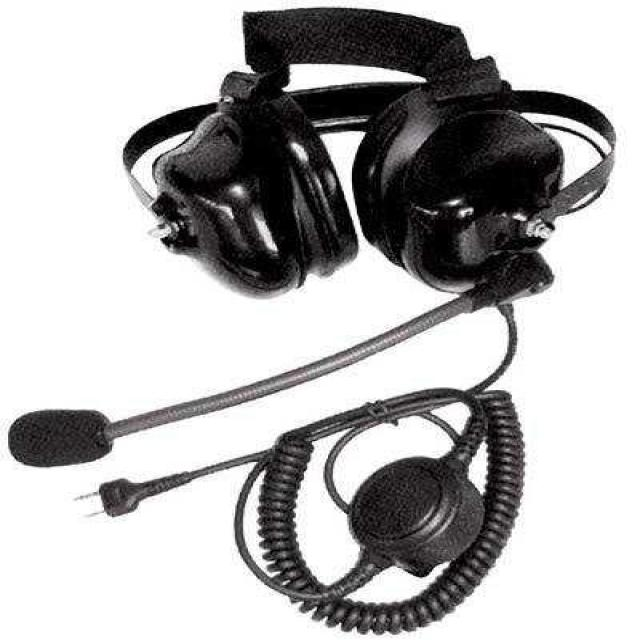microphone: (6, 389, 293, 468)
